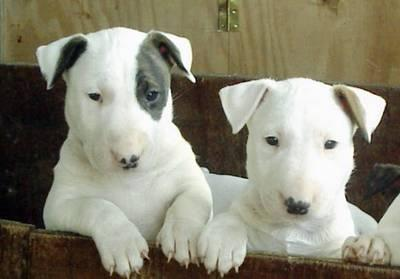bull_terrier: (35, 26, 213, 279), (196, 76, 391, 279)
